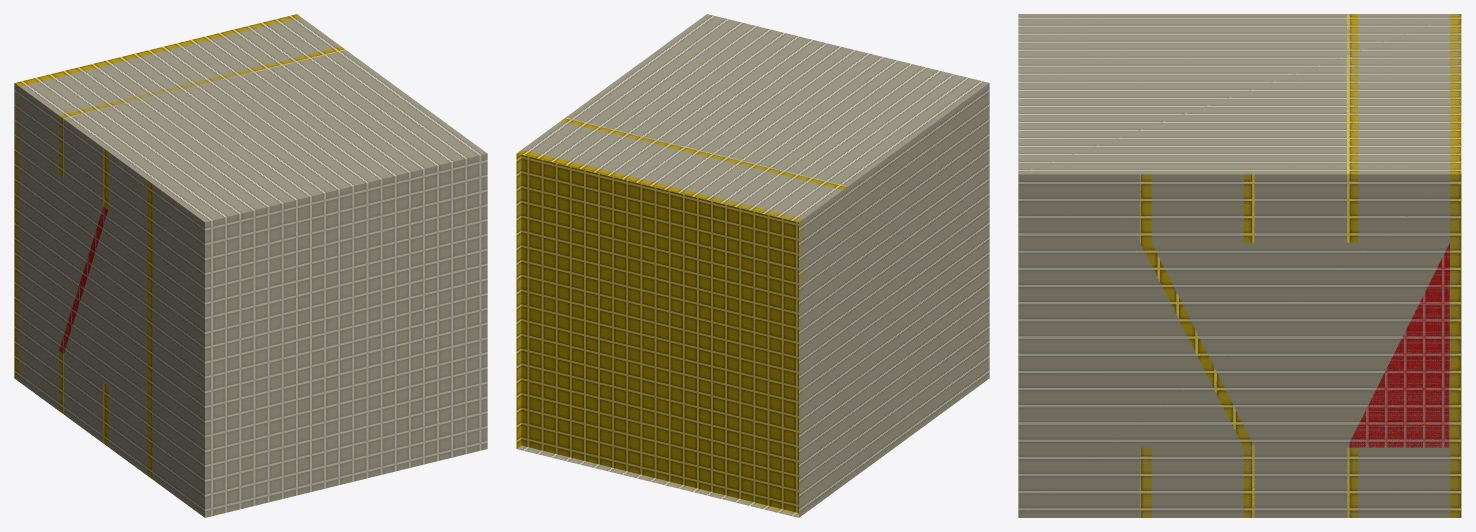
File: gebouw.obj
3 views of the same model, side by side, from view 1: azimuth 30°, elevation 25°; view 2: azimuth 150°, elevation 25°; view 3: azimuth 270°, elevation 25° (orthographic). The views are drawn at different scales.
Parts seen in each view (by area): view 1: gebouw; view 2: gebouw; view 3: gebouw.
Part boxes in pixels (bbox=[...]): gebouw: bbox=[14, 14, 487, 517]; gebouw: bbox=[516, 14, 989, 517]; gebouw: bbox=[1018, 14, 1461, 517].
Size of the model in its own units: 20 by 20 by 23.38.
